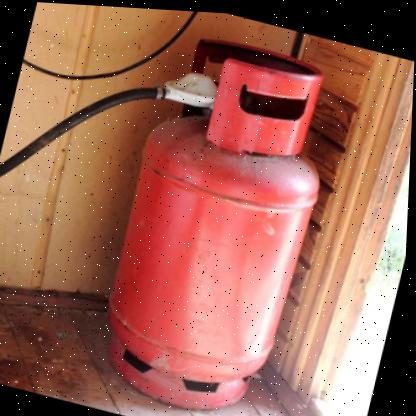gas-tank: (67, 3, 370, 415)
